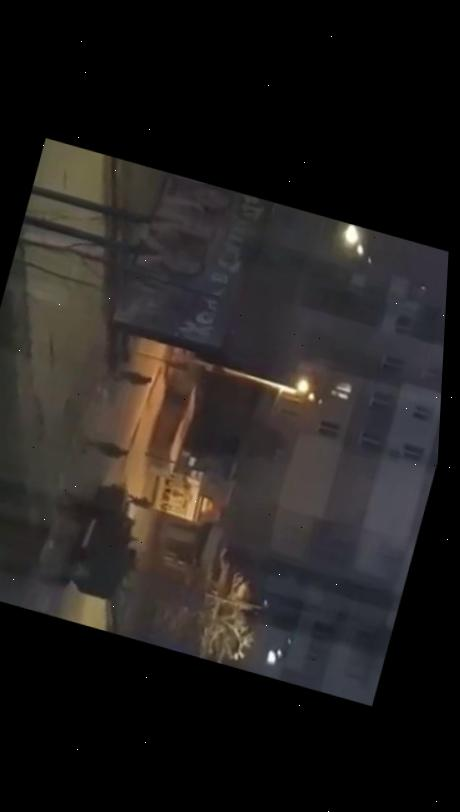armored_car: (63, 473, 155, 606)
person: (84, 433, 132, 461), (115, 366, 154, 389), (14, 601, 63, 618), (125, 490, 156, 511)
